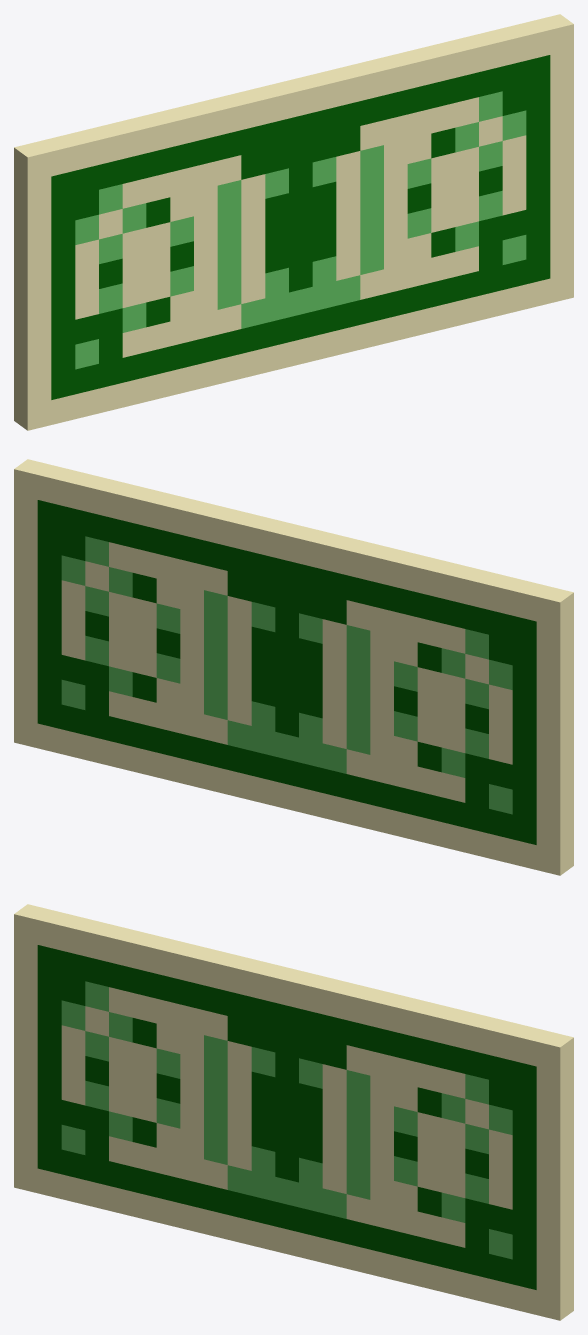
The model's file is Money.obj.
The picture shows the model from 3 angles, top to bottom: view 1: azimuth 30°, elevation 25°; view 2: azimuth 150°, elevation 25°; view 3: azimuth 330°, elevation 25°; orthographic projection.
Visible parts, largest first — view 1: Untitled.032; view 2: Untitled.032; view 3: Untitled.032.
Part boxes in pixels (left/top/right/bottom): Untitled.032: left=14, top=14, right=573, bottom=430; Untitled.032: left=14, top=459, right=573, bottom=875; Untitled.032: left=14, top=904, right=573, bottom=1320.
Size of the model in its own units: 2.3 by 1.1 by 0.1.
